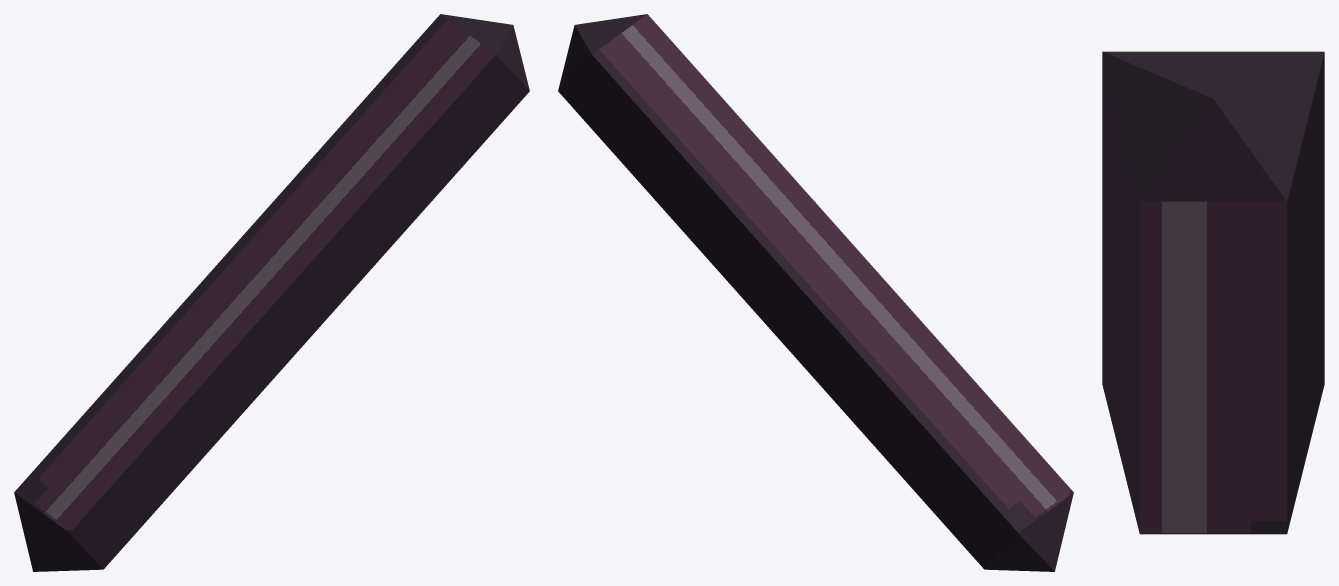
File: spider_forearm.glb
3 views of the same model, side by side, from view 1: azimuth 30°, elevation 25°; view 2: azimuth 150°, elevation 25°; view 3: azimuth 270°, elevation 25° (orthographic). The views are drawn at different scales.
Parts seen in each view (by area): view 1: Cube.028; view 2: Cube.028; view 3: Cube.028.
Part boxes in pixels (x1=…): Cube.028: x1=14, y1=14, x2=529, y2=571; Cube.028: x1=558, y1=14, x2=1073, y2=571; Cube.028: x1=1102, y1=51, x2=1324, y2=534.
Bounding box in the file's own units: 2.73 × 2.34 × 0.547.
Materials: 1 (1 with a texture image).
